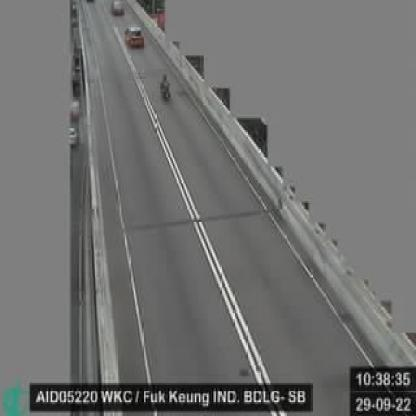Car: (121, 23, 149, 52), (110, 0, 127, 19)
